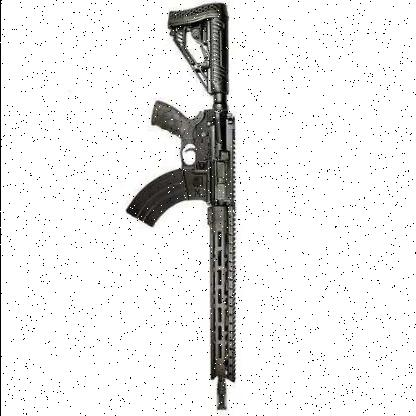rifle: (105, 0, 264, 409)
